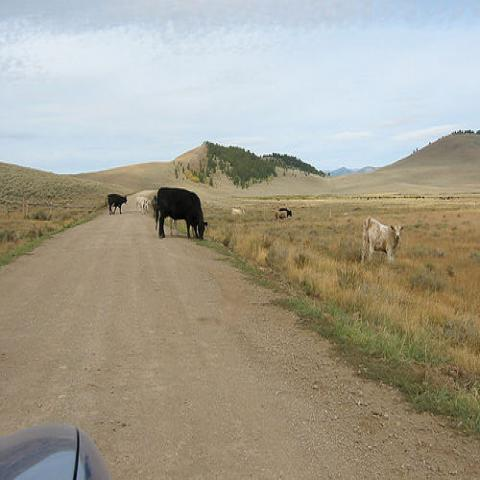car: (1, 424, 112, 472)
